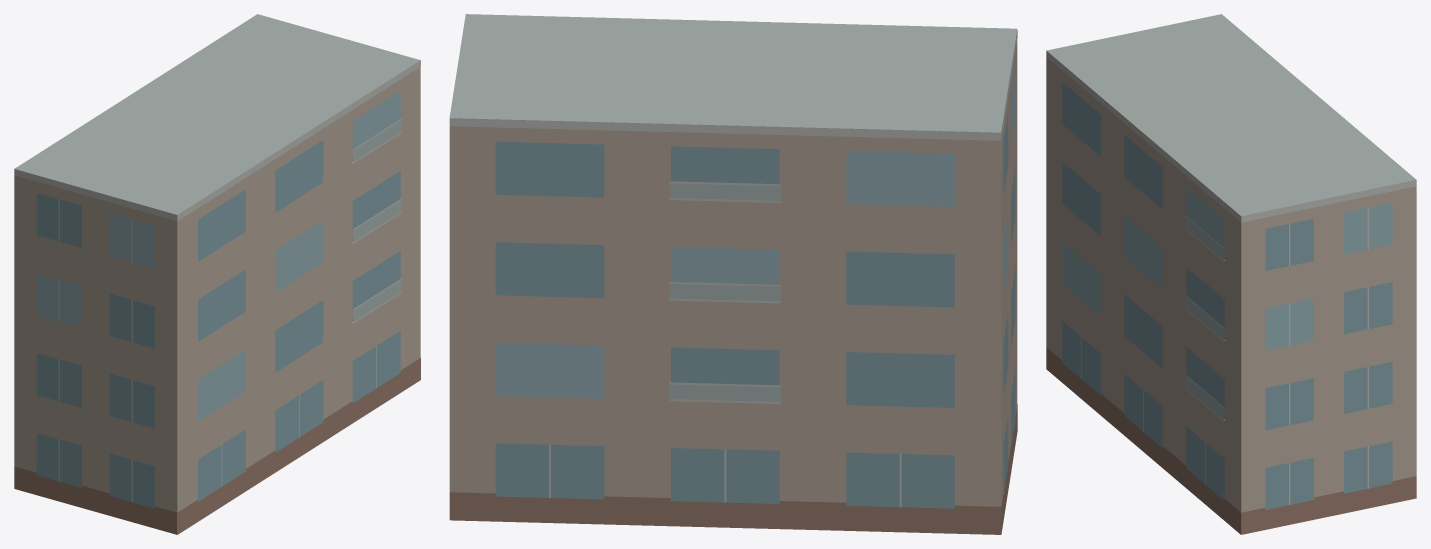
Rendered from survey-upis-32903936.glb.
3 renders of one model, left to right at view 1: azimuth 30°, elevation 25°; view 2: azimuth 150°, elevation 25°; view 3: azimuth 270°, elevation 25°, orthographic. The views are drawn at different scales.
Parts seen in each view (by area): view 1: survey-upis-32903936.tmp; view 2: survey-upis-32903936.tmp; view 3: survey-upis-32903936.tmp.
Part boxes in pixels (bbox=[...]): survey-upis-32903936.tmp: bbox=[14, 14, 420, 534]; survey-upis-32903936.tmp: bbox=[449, 14, 1017, 534]; survey-upis-32903936.tmp: bbox=[1046, 14, 1416, 534].
Size of the model in its own units: 16.48 by 12.1 by 12.75.
